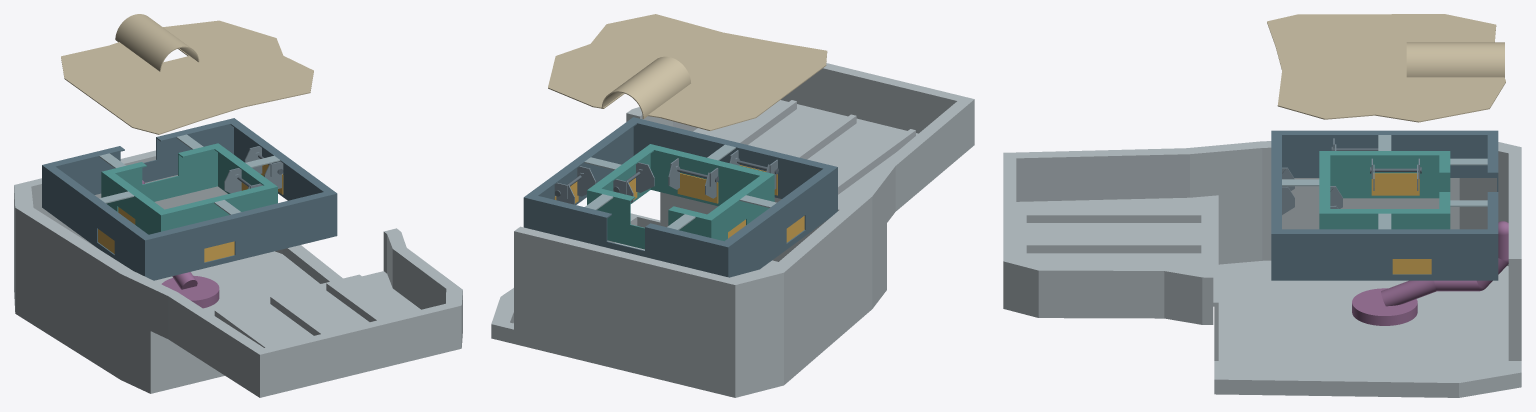
File: nested_pan_exploded.glb
3 renders of one model, left to right at view 1: azimuth 30°, elevation 25°; view 2: azimuth 150°, elevation 25°; view 3: azimuth 270°, elevation 25°, orthographic. The views are drawn at different scales.
Visible parts, largest first — view 1: nested_pan_exploded (×8); view 2: nested_pan_exploded (×8); view 3: nested_pan_exploded (×8).
Part boxes in pixels (box(x1,y1,x2,y2)): nested_pan_exploded (×8): box(14, 14, 462, 397); nested_pan_exploded (×8): box(491, 14, 974, 397); nested_pan_exploded (×8): box(1003, 14, 1521, 397).
Size of the model in its own units: 0.316 by 0.283 by 0.4747.
